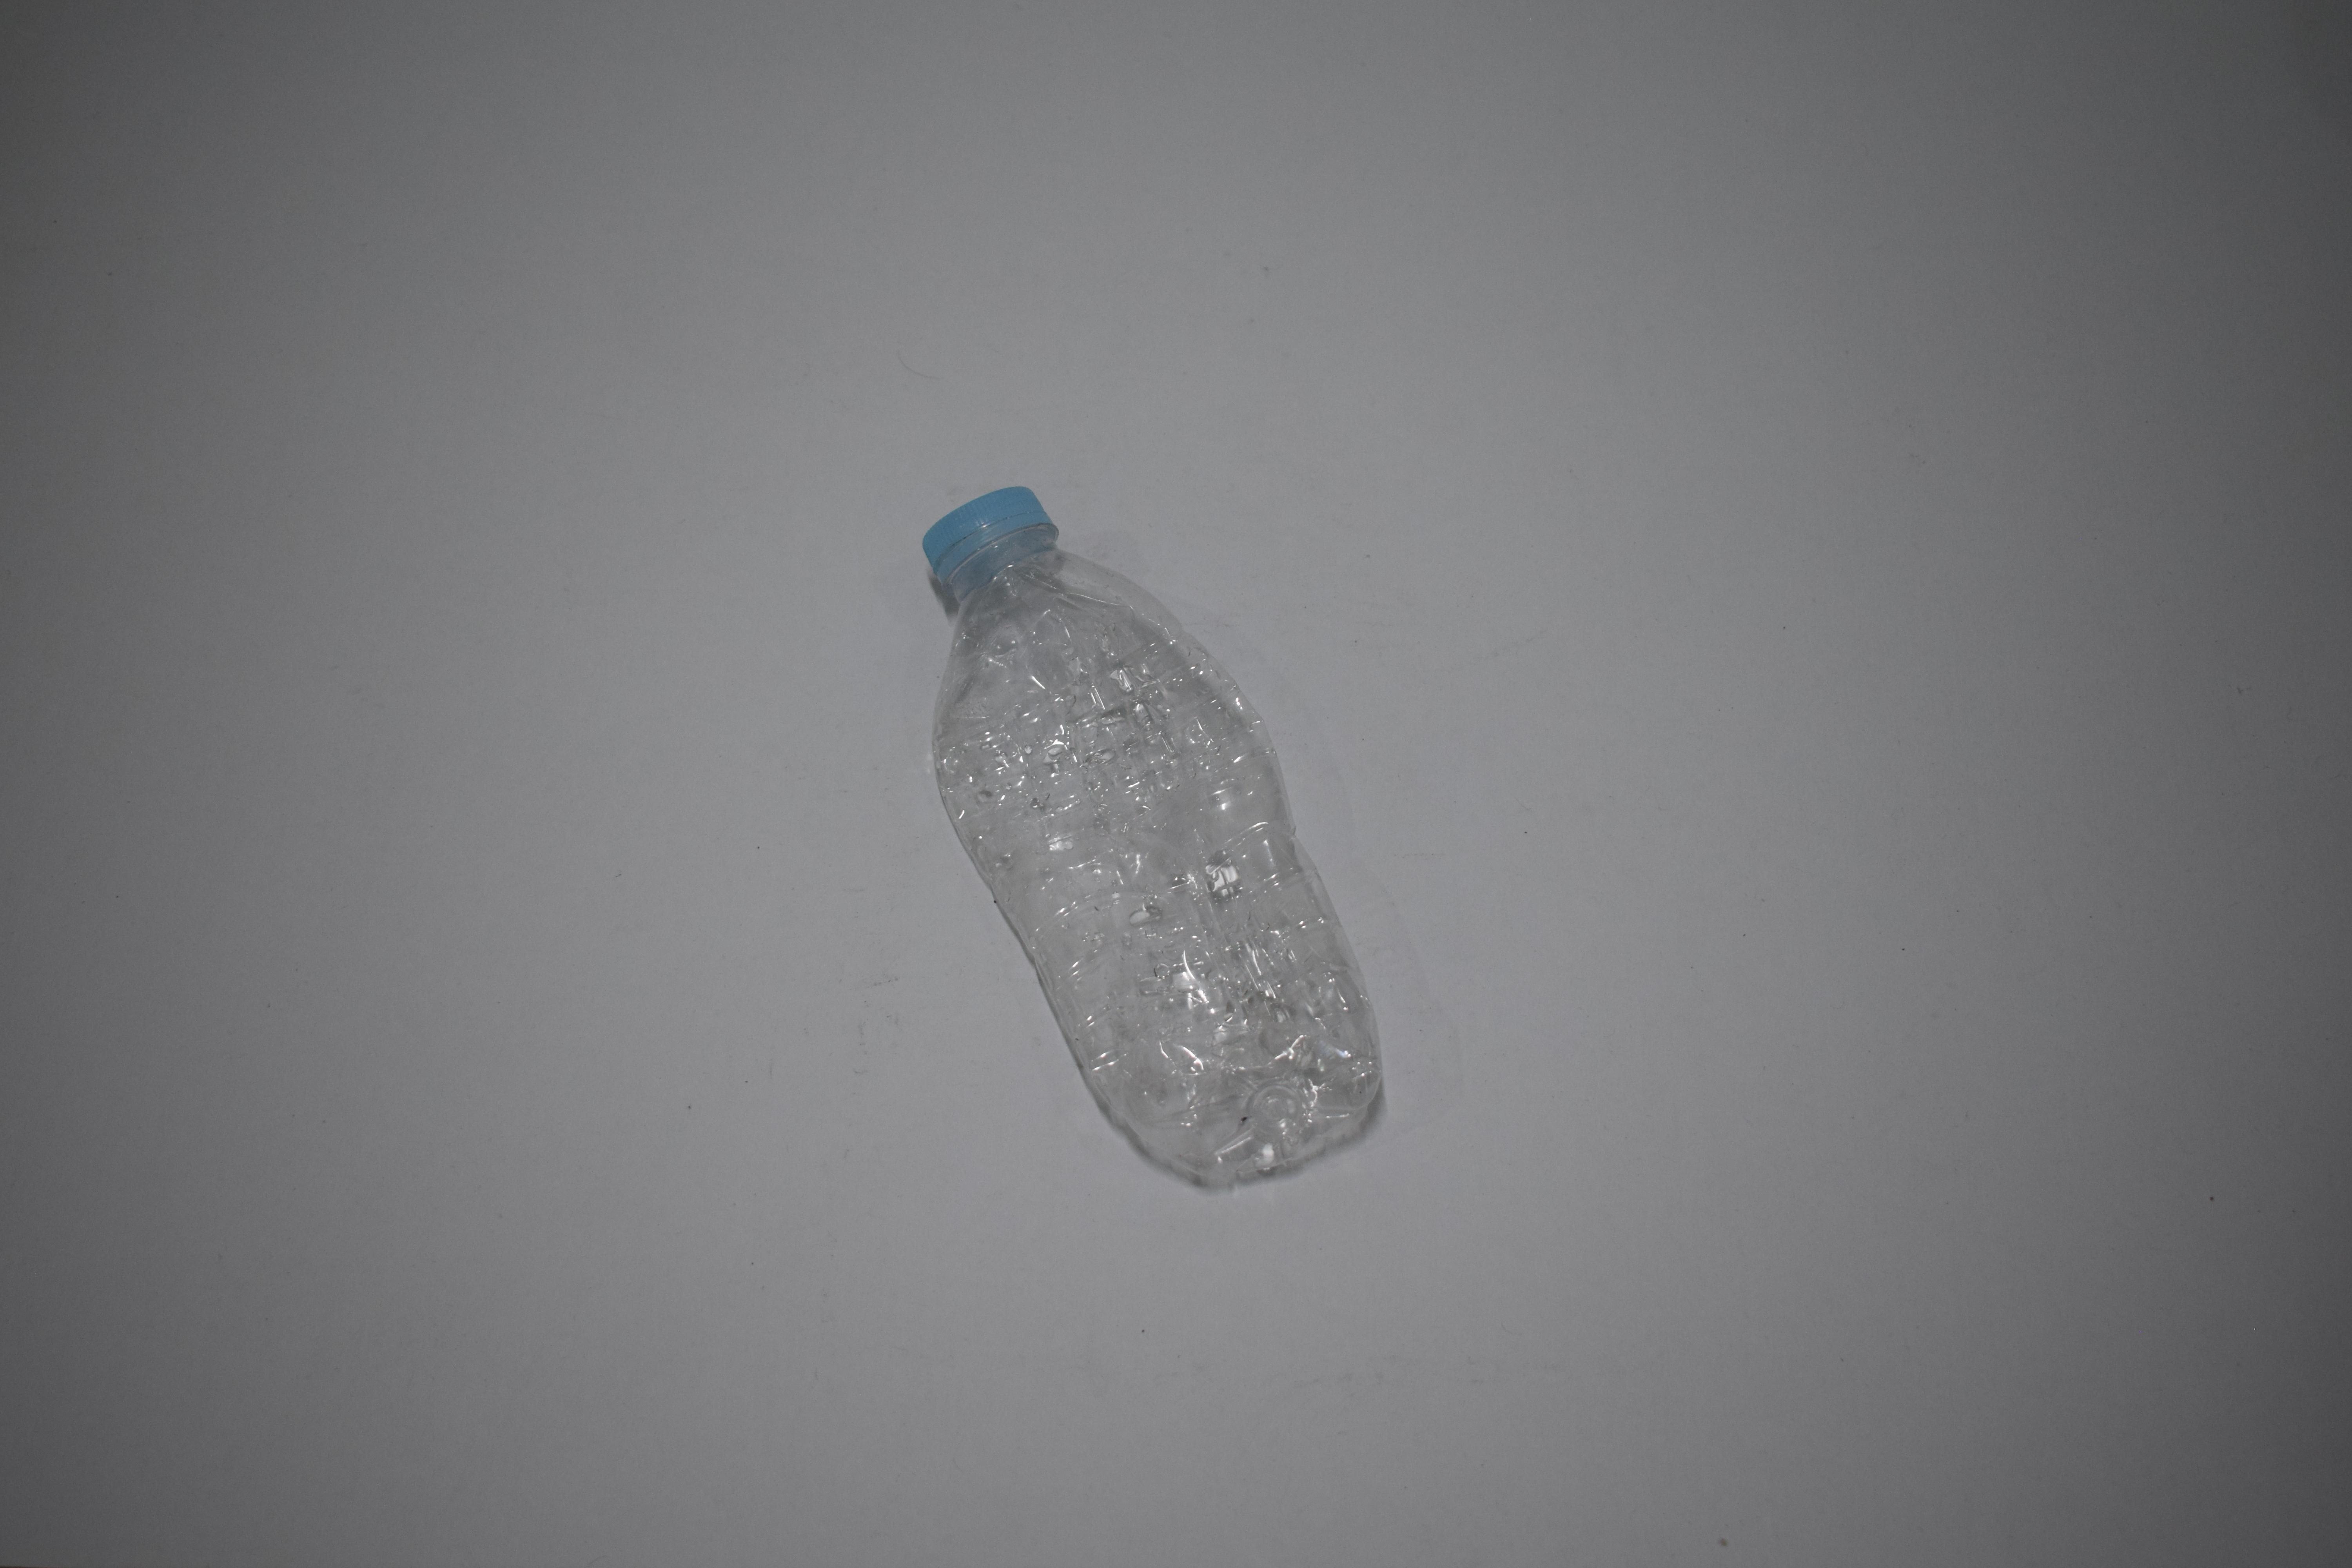bottle: (917, 0, 1388, 364)
